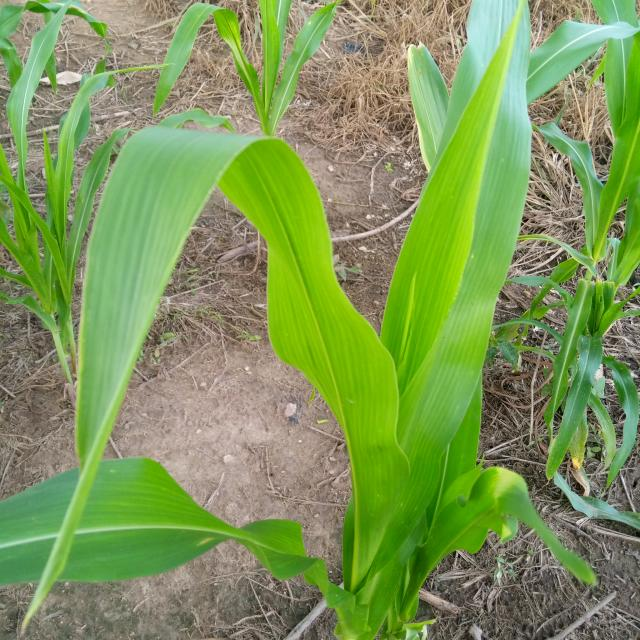healthy-maize: (383, 304, 482, 546), (422, 214, 506, 282), (277, 190, 310, 326)
